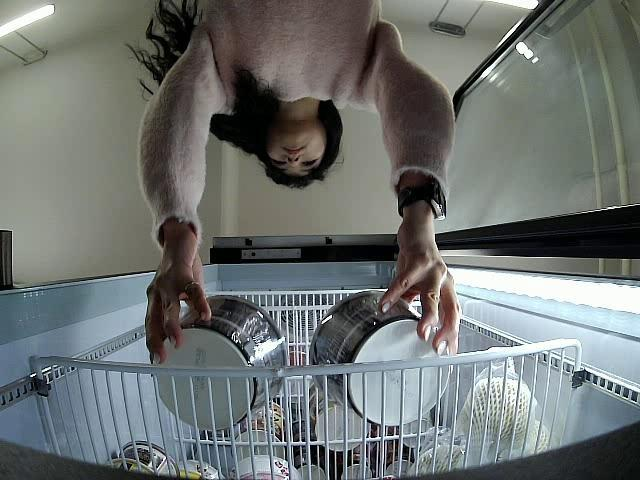07_buldak_L: (152, 294, 292, 430), (308, 289, 447, 425)
